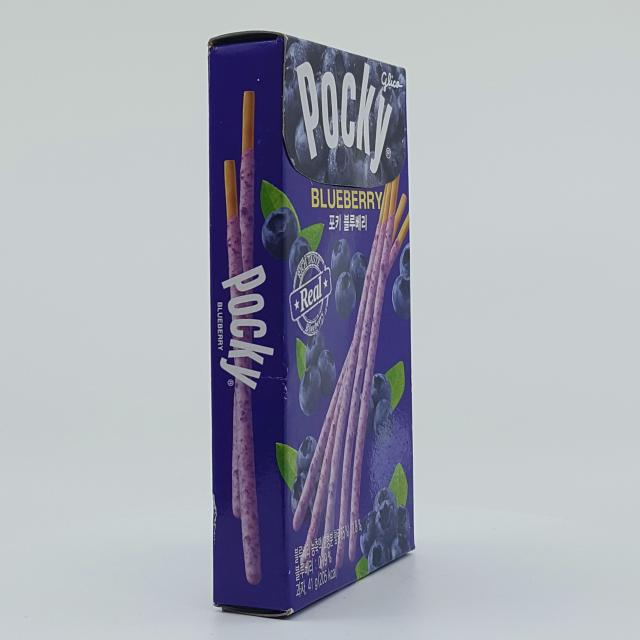-41G: (208, 31, 416, 618)
